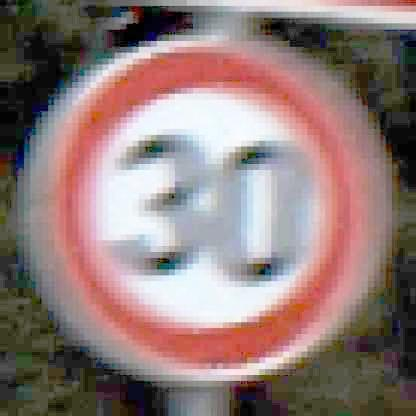Speed Limit -30-: (22, 35, 393, 385)
